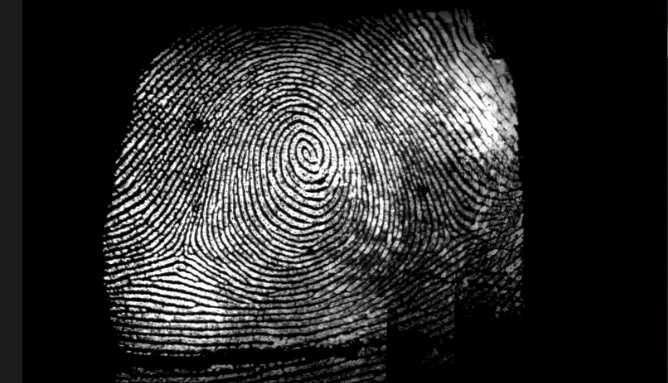nucelo: (288, 133, 331, 173)
verticilo: (167, 234, 202, 272), (441, 218, 478, 252)
